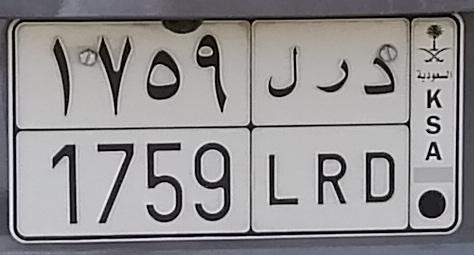1: (49, 38, 81, 226)
5: (146, 48, 185, 224)
7: (96, 34, 135, 227)
9: (195, 33, 231, 222)
D: (362, 56, 397, 204)
L: (265, 45, 300, 207)
R: (315, 58, 349, 206)
